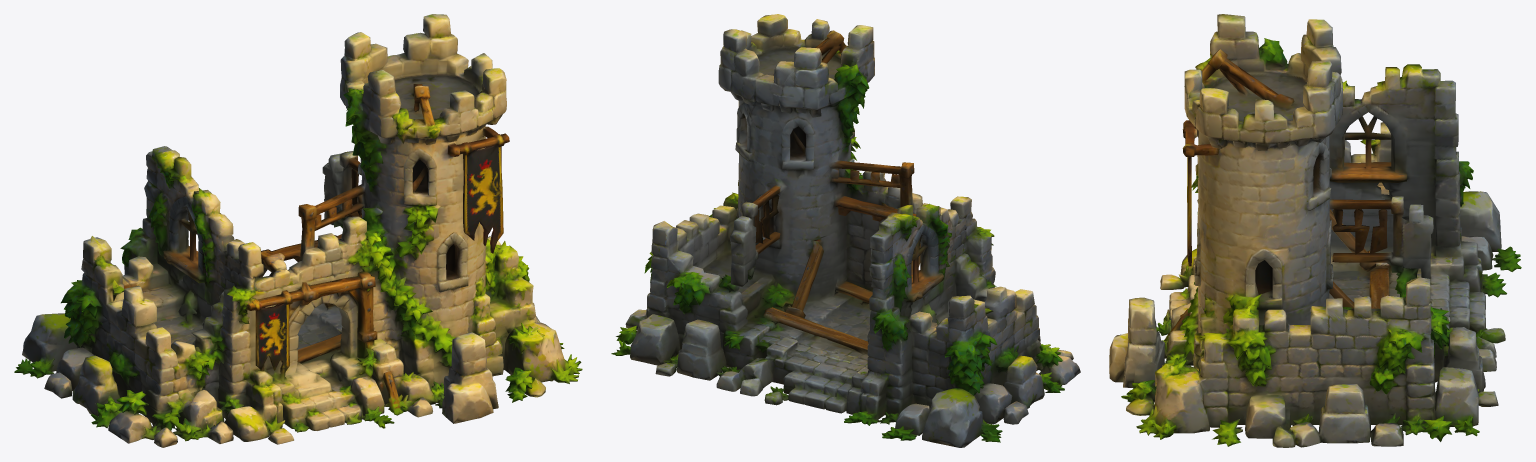
The model's file is medieval castle 3d model neu.glb.
3 views of the same model, side by side, from view 1: azimuth 30°, elevation 25°; view 2: azimuth 150°, elevation 25°; view 3: azimuth 270°, elevation 25° (orthographic). The views are drawn at different scales.
Visible parts, largest first — view 1: tripo_node_18257599-8f4b-4a58-8272-a1dd31a284ea; view 2: tripo_node_18257599-8f4b-4a58-8272-a1dd31a284ea; view 3: tripo_node_18257599-8f4b-4a58-8272-a1dd31a284ea.
Part boxes in pixels (x1=…): tripo_node_18257599-8f4b-4a58-8272-a1dd31a284ea: x1=14, y1=14, x2=582, y2=447; tripo_node_18257599-8f4b-4a58-8272-a1dd31a284ea: x1=611, y1=14, x2=1080, y2=447; tripo_node_18257599-8f4b-4a58-8272-a1dd31a284ea: x1=1109, y1=14, x2=1521, y2=447.
Bounding box in the file's own units: 1 × 0.6843 × 0.7532.
1 material, 1 textured.
